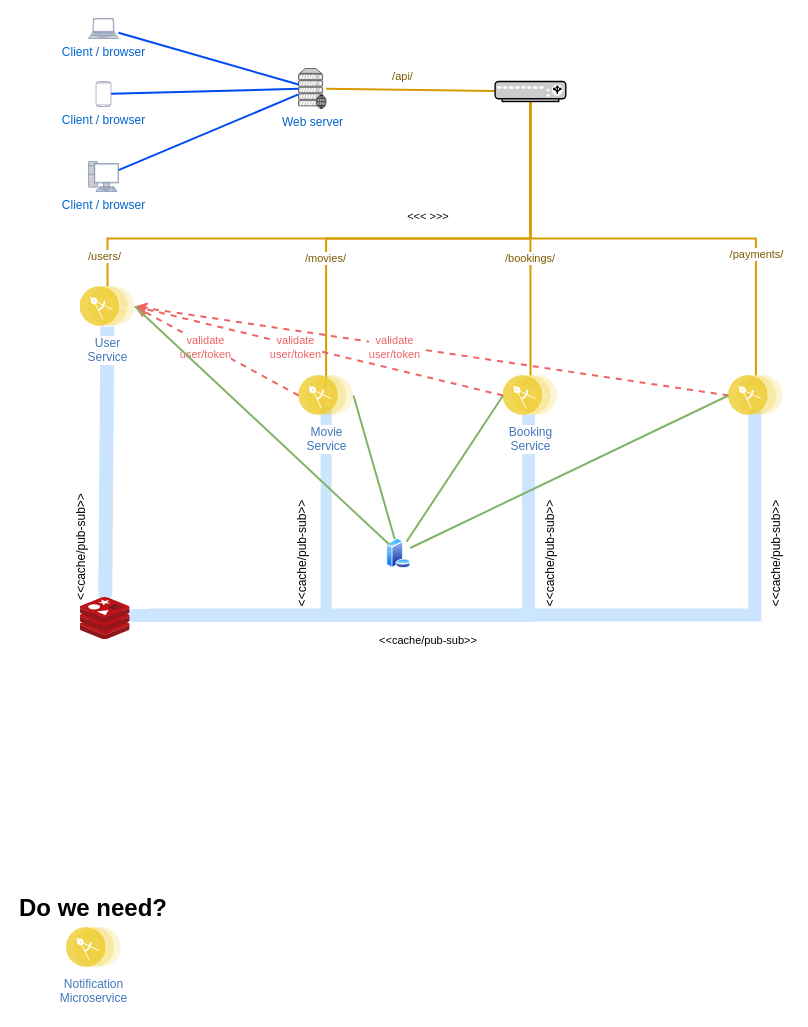
The diagram is 808 pixels wide and 1027 high, and some of its shapes have lost their labels. Each missing label, with the box of its shape:
API Gateway / Loadbalancer: (494, 80, 566, 102)
DB (Mongo) Server: (386, 538, 411, 568)
Payment Service: (728, 375, 783, 415)
REDIS Cache/Queue Server: (80, 597, 130, 639)
